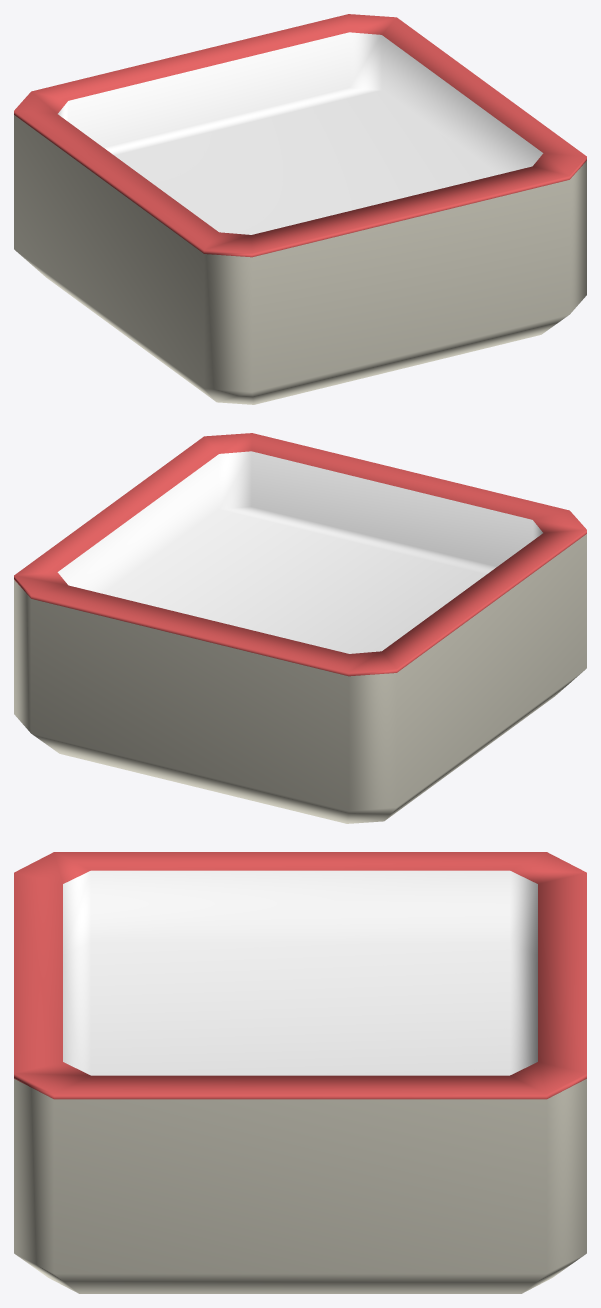
File: bdpremierballmodel_ball_lev2.glb
3 renders of one model, top to bottom at view 1: azimuth 30°, elevation 25°; view 2: azimuth 150°, elevation 25°; view 3: azimuth 270°, elevation 25°, orthographic. The views are drawn at different scales.
Visible parts, largest first — view 1: bdpremierballmodel_ball_lev2; view 2: bdpremierballmodel_ball_lev2; view 3: bdpremierballmodel_ball_lev2.
Boxes of the visible parts, x1,y1,x2,y2 form: bdpremierballmodel_ball_lev2: (14, 14, 586, 404); bdpremierballmodel_ball_lev2: (14, 433, 586, 823); bdpremierballmodel_ball_lev2: (14, 852, 586, 1293).
Bounding box in the file's own units: 1.97 × 0.8126 × 1.97.
1 material, 1 textured.
